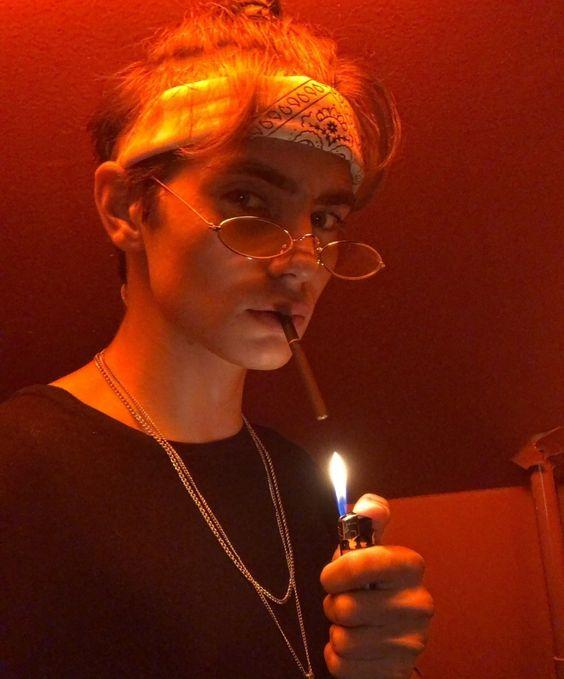cigarette: (277, 311, 329, 420)
